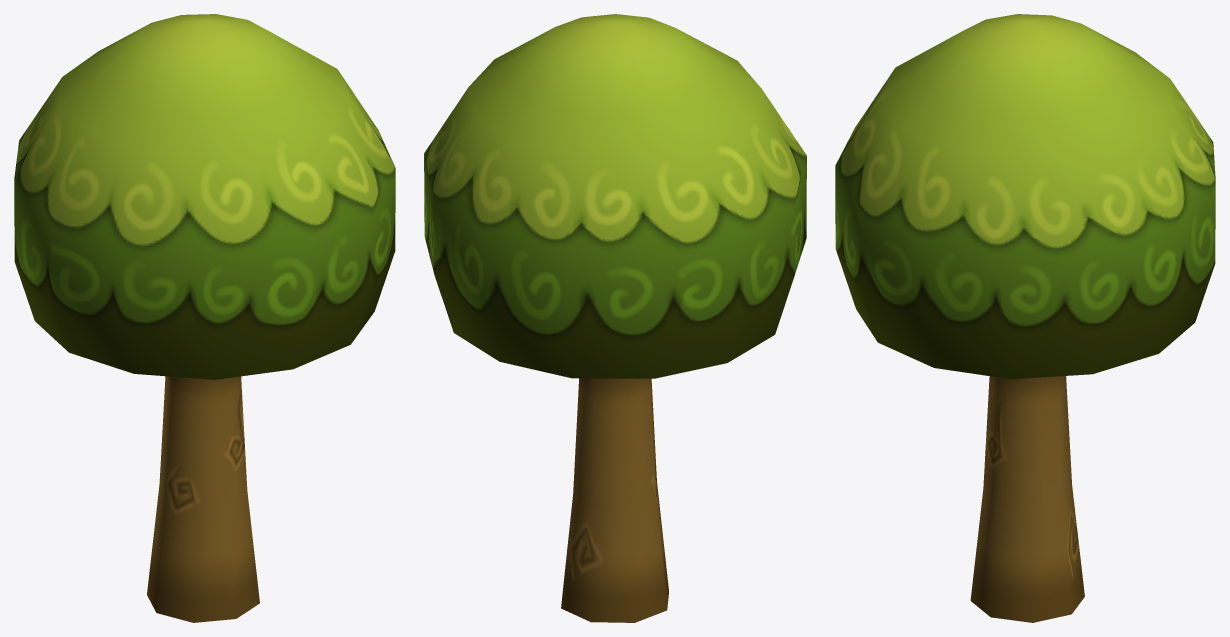
The model's file is Tree1.FBX.
The picture shows the model from 3 angles, left to right: view 1: azimuth 30°, elevation 25°; view 2: azimuth 150°, elevation 25°; view 3: azimuth 270°, elevation 25°; orthographic projection.
Parts seen in each view (by area): view 1: Tree 1; view 2: Tree 1; view 3: Tree 1.
Part boxes in pixels (left/top/right/bottom): Tree 1: left=14, top=14, right=395, bottom=622; Tree 1: left=424, top=14, right=806, bottom=622; Tree 1: left=835, top=14, right=1215, bottom=622.
Bounding box in the file's own units: 76.38 × 127 × 76.07.
